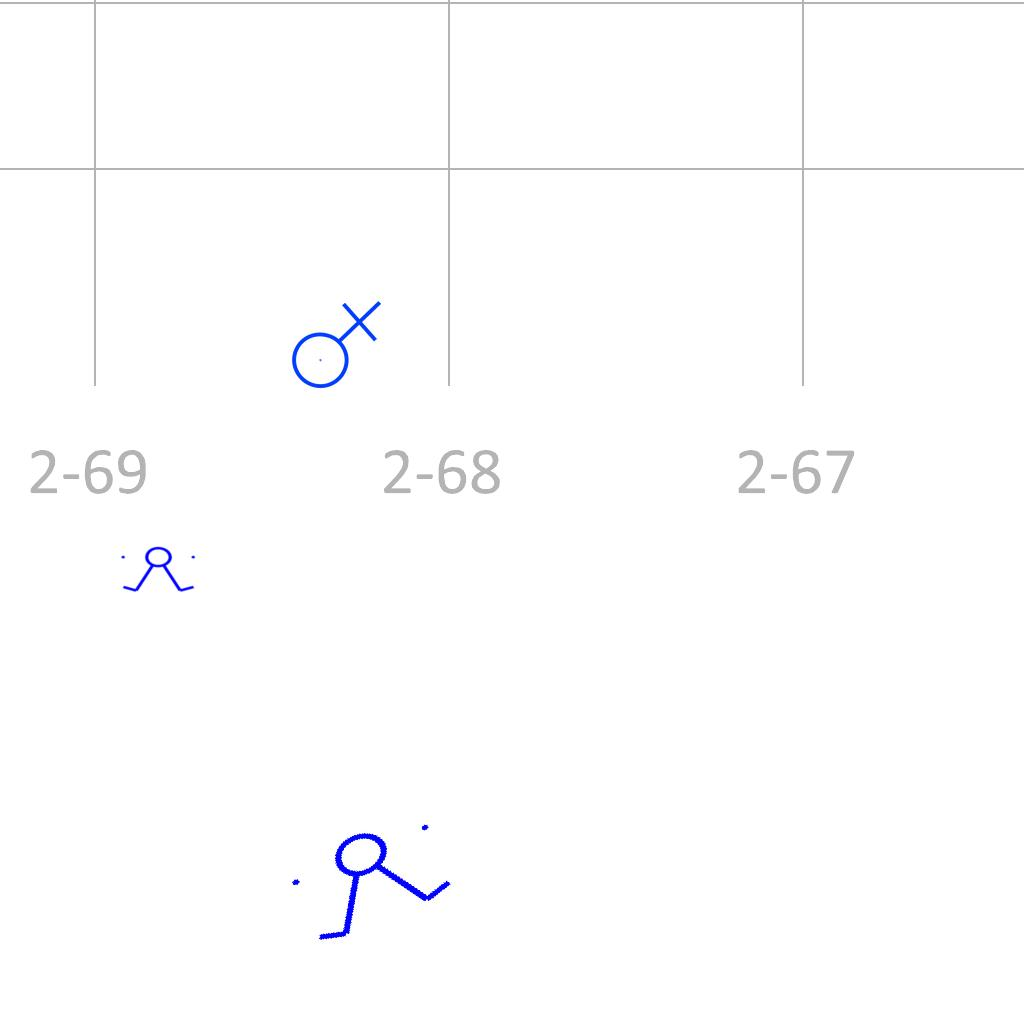Elektroanschluss_allgemein_230V_Geraeteanschlussdose_230V: (283, 296, 382, 390)
Serienschalter: (275, 800, 469, 956), (117, 546, 201, 594)
